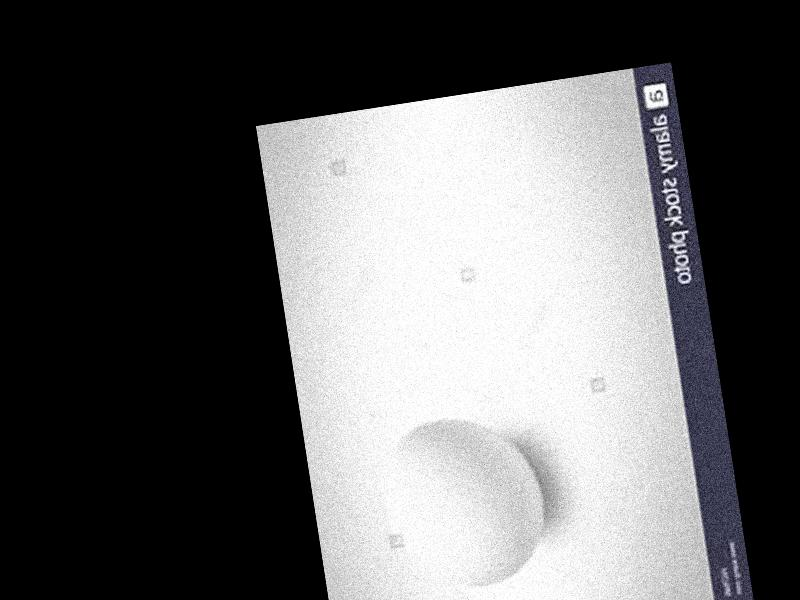Eggs: (377, 408, 555, 600)
